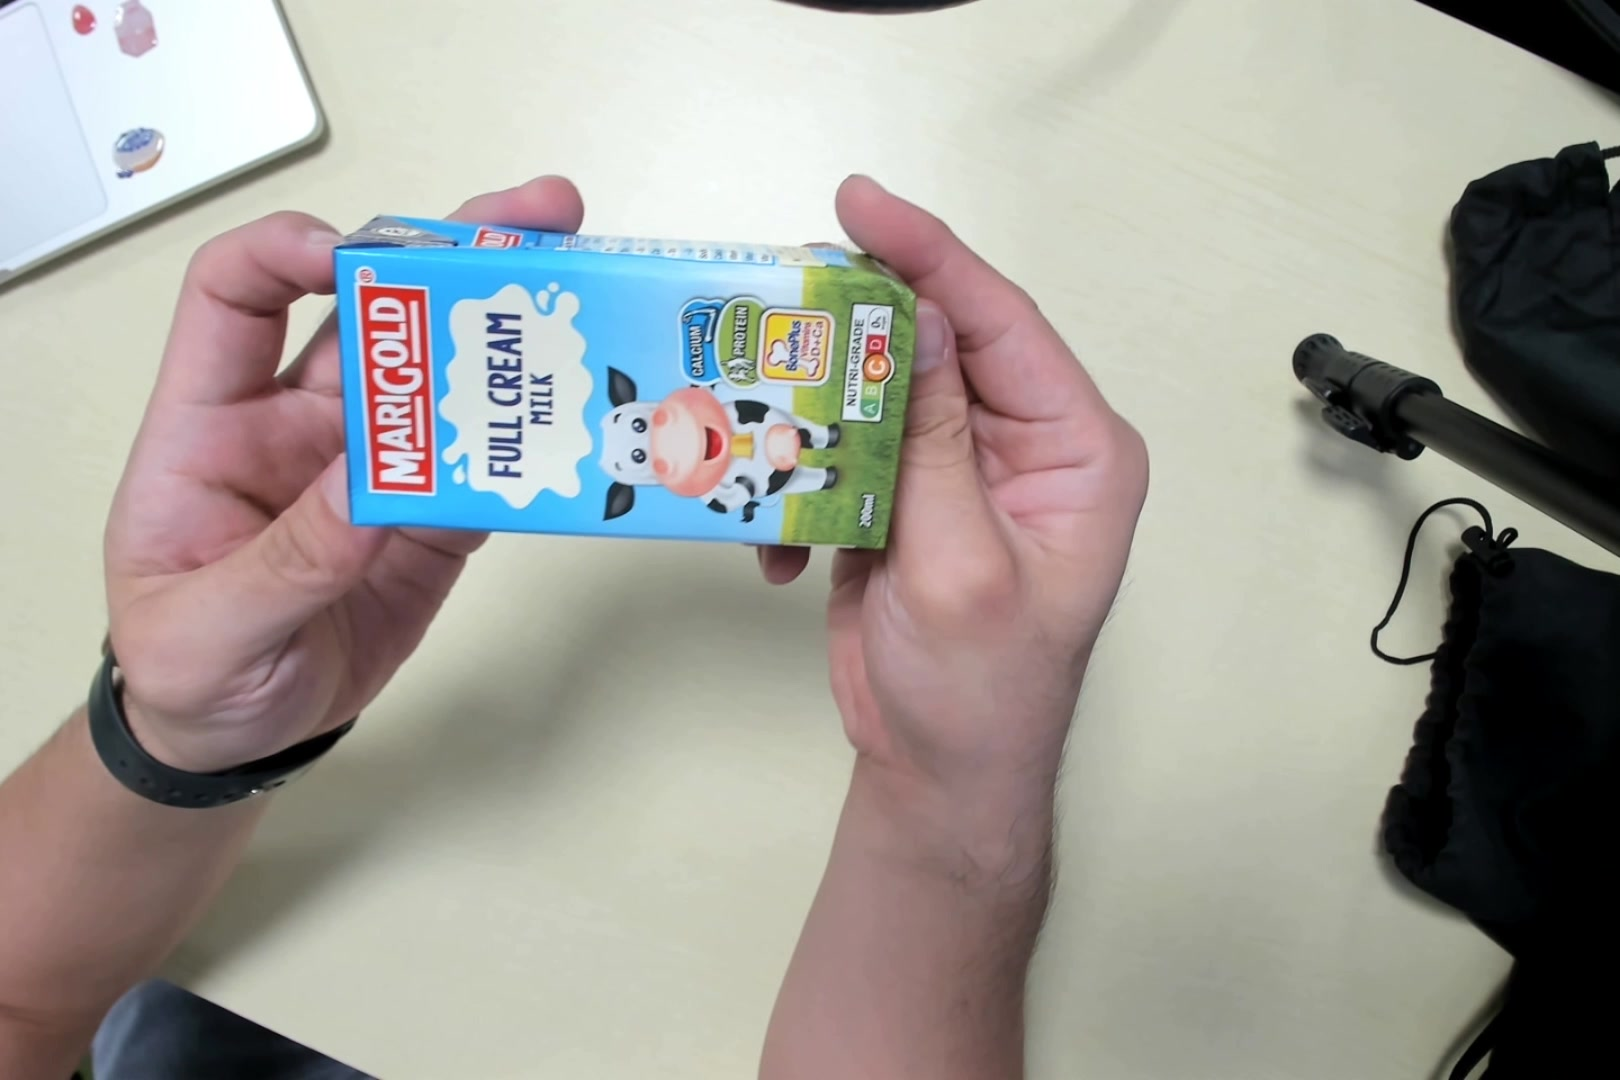Milk(Drink)_200-299g_Halal_NonHealthy: (337, 218, 910, 557)
